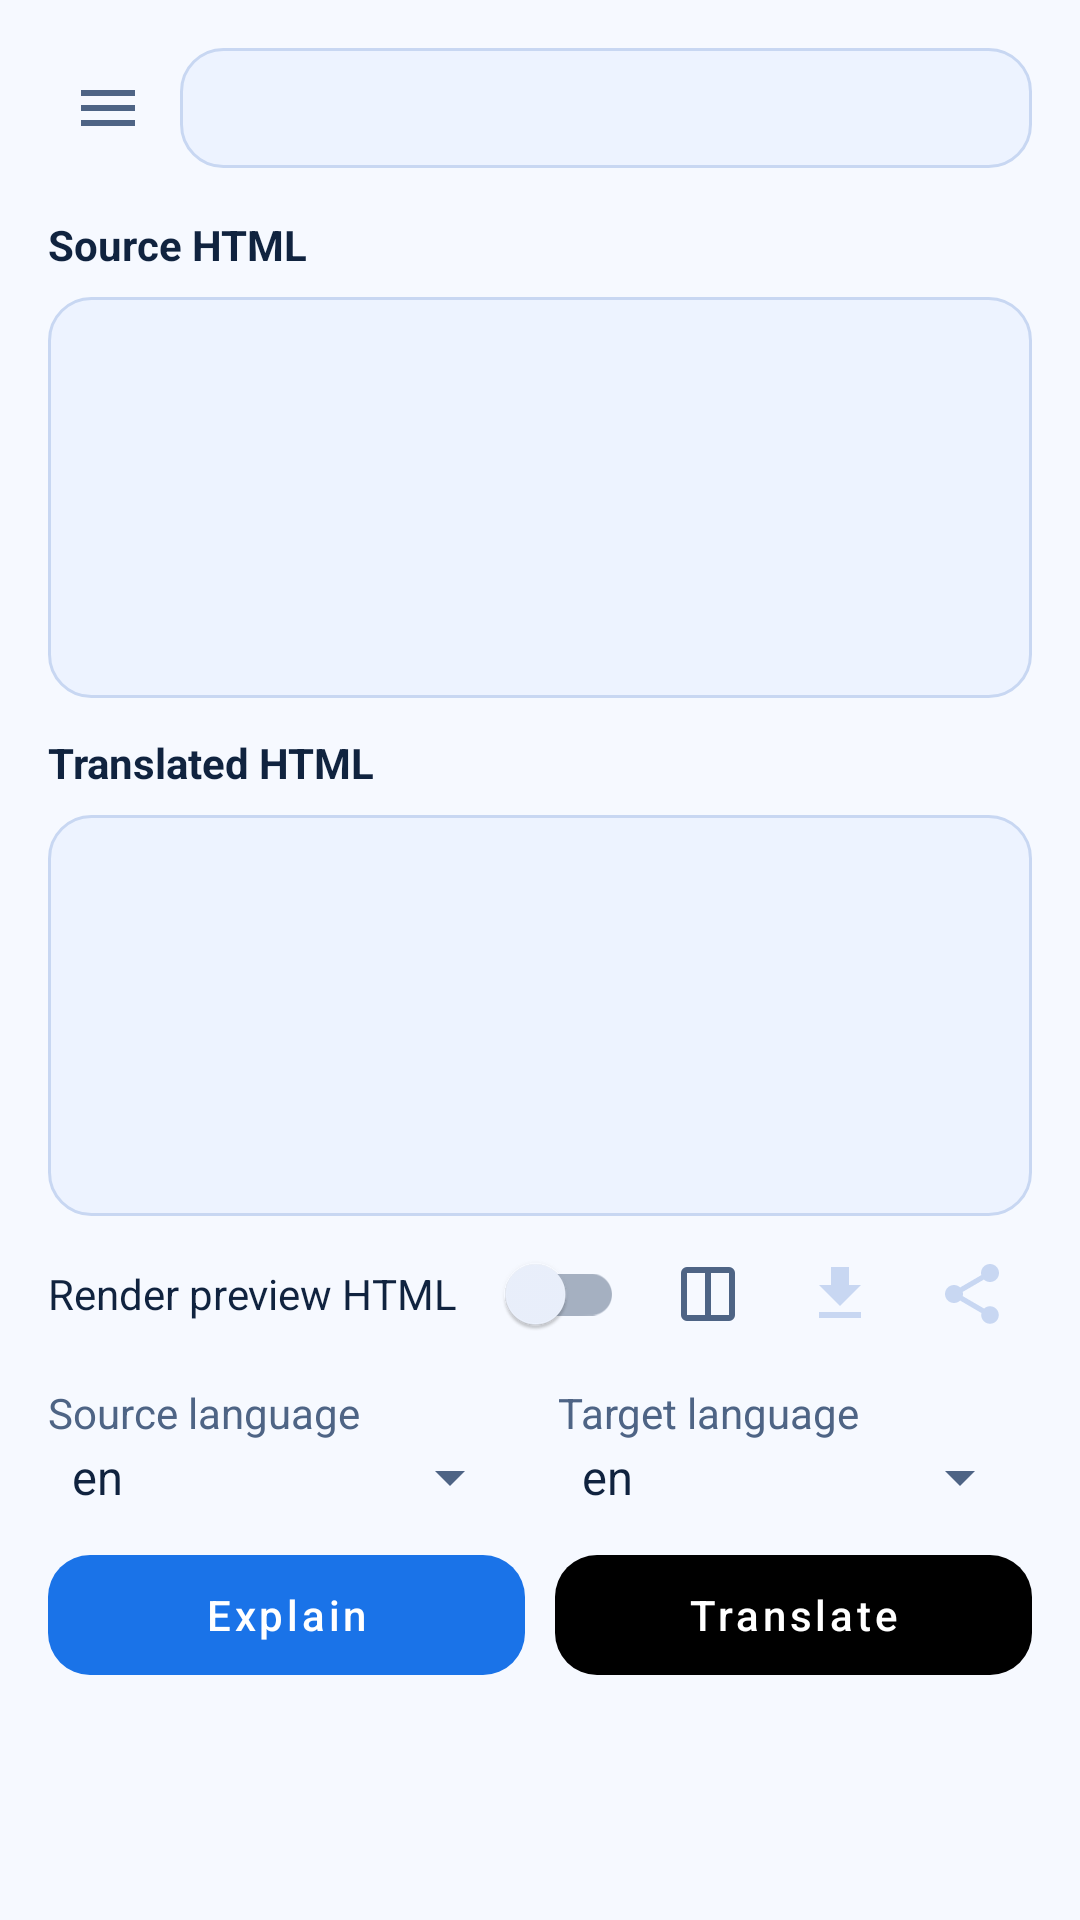

Point at icon controls on the screen. Image size 1080x1920, points as [x,y].
Open navigation menu: [108,108]
Open side-by-side compare mode: [708,1294]
Save translated HTML: [840,1292]
Share translated HTML: [972,1294]
